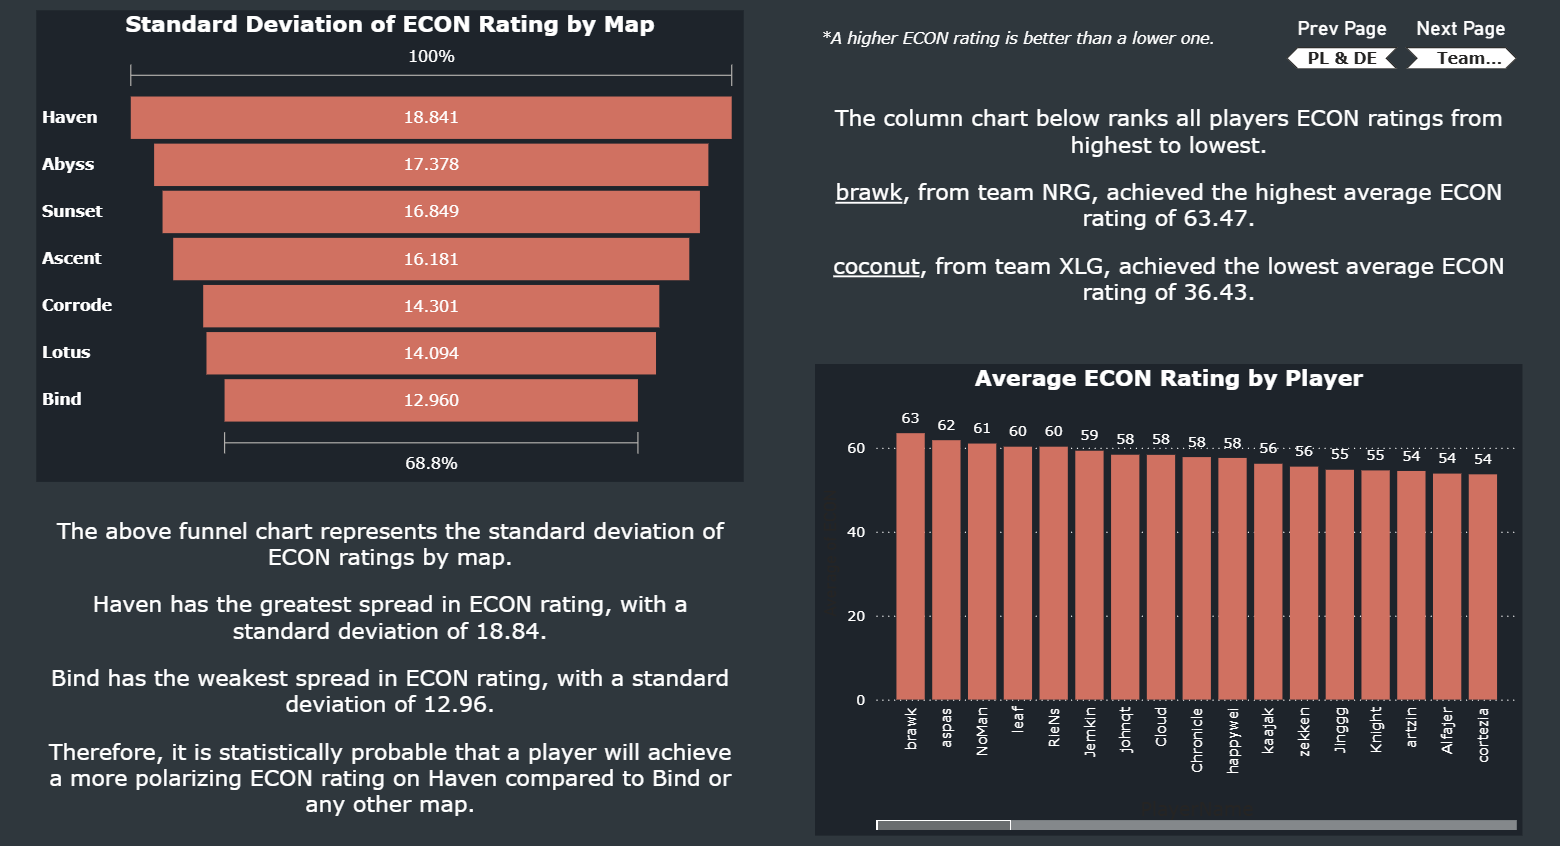

The page's visual inventory and layout, read from the dashboard file:
{"tool":"powerbi","page":{"name":"ECON Stats","canvas":[1280,720],"ordinal":3},"visuals":[{"type":"funnel","title":"Standard Deviation of ECON Rating by Map","fields":{"Category":["valorantproject matches.MatchMap"],"Y":["valorantproject player.ECON"]},"box":[10,10,600,400],"z":0},{"type":"clusteredColumnChart","title":"Average ECON Rating by Player","fields":{"Category":["valorantproject player.PlayerName"],"Y":["valorantproject player.ECON"]},"box":[670,310,600.4,400],"z":1000},{"type":"pageNavigator","title":"Next Page","box":[1170,10,100,50],"z":2000},{"type":"pageNavigator","title":"Prev Page","box":[1070,10,100,50],"z":3000},{"type":"textbox","box":[10,435,600.4,275],"z":4000},{"type":"textbox","box":[670,19.2,375,30],"z":5000},{"type":"textbox","box":[670,85,600.4,200],"z":6000}]}

Visuals, with their boxes on the page's 1280x720 design canvas (x1, y1, x2, y2). These are canvas units, not pixel positions in the 1560x846 screenshot, which may show the page scaled, cropped or inside an application window:
"Standard Deviation of ECON Rating by Map" funnel: [left=10, top=10, right=610, bottom=410]
"Average ECON Rating by Player" clusteredColumnChart: [left=670, top=310, right=1270, bottom=710]
"Next Page" pageNavigator: [left=1170, top=10, right=1270, bottom=60]
"Prev Page" pageNavigator: [left=1070, top=10, right=1170, bottom=60]
textbox: [left=10, top=435, right=610, bottom=710]
textbox: [left=670, top=19, right=1045, bottom=49]
textbox: [left=670, top=85, right=1270, bottom=285]
